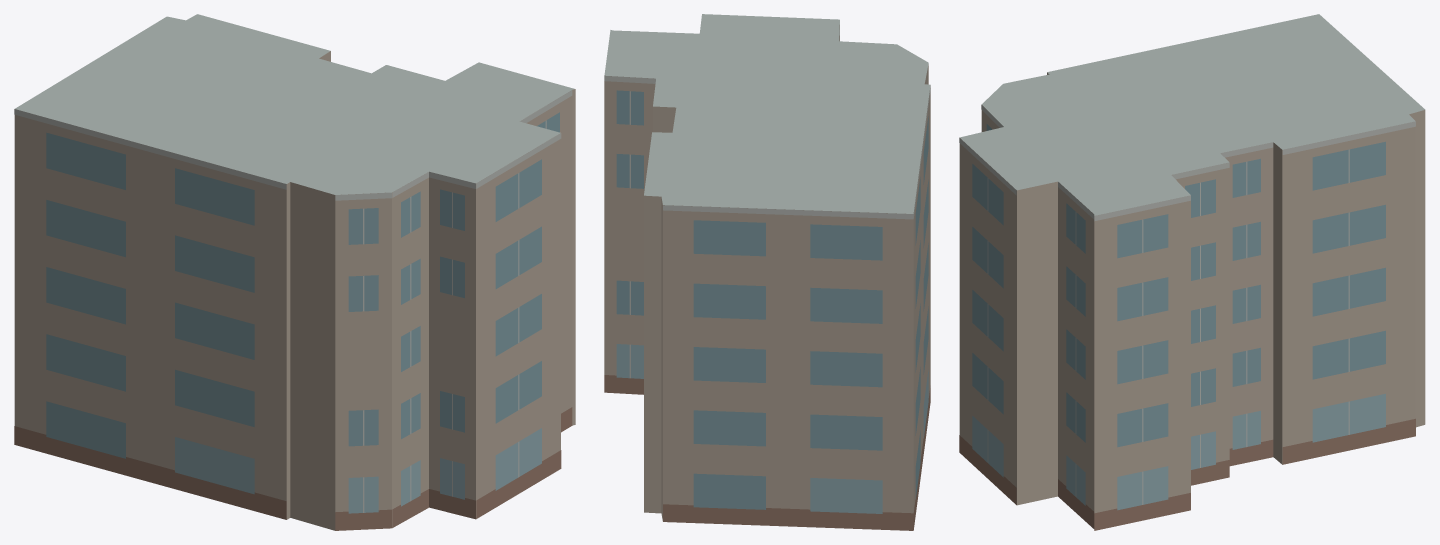
Rendered from survey-upis-32780913.glb.
3 views of the same model, side by side, from view 1: azimuth 30°, elevation 25°; view 2: azimuth 150°, elevation 25°; view 3: azimuth 270°, elevation 25° (orthographic). The views are drawn at different scales.
Visible parts, largest first — view 1: survey-upis-32780913.tmp; view 2: survey-upis-32780913.tmp; view 3: survey-upis-32780913.tmp.
Boxes of the visible parts, x1,y1,x2,y2 form: survey-upis-32780913.tmp: (14, 14, 575, 530); survey-upis-32780913.tmp: (604, 14, 930, 530); survey-upis-32780913.tmp: (959, 14, 1425, 530).
Size of the model in its own units: 19.67 by 14.3 by 19.18.
